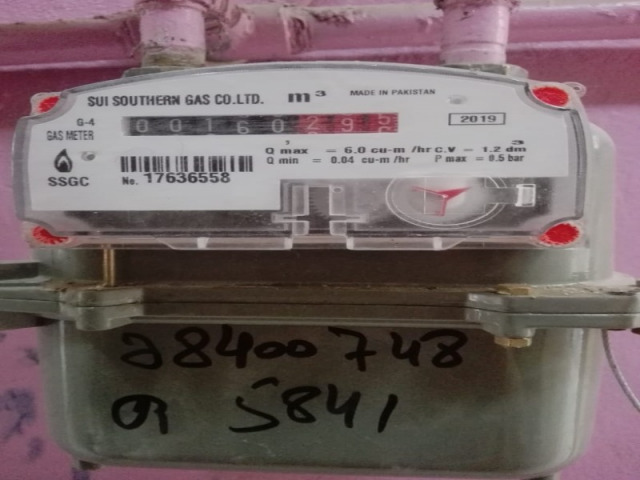ssgc: (117, 108, 407, 141)
